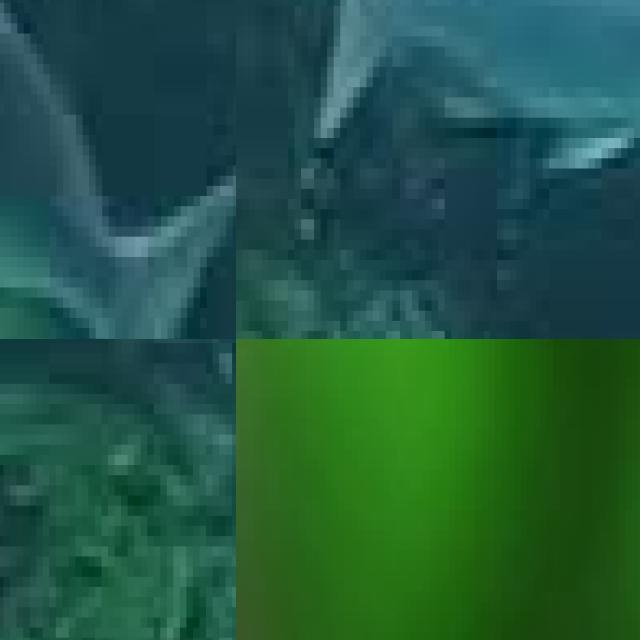fish: (0, 0, 236, 339), (236, 0, 640, 178)
